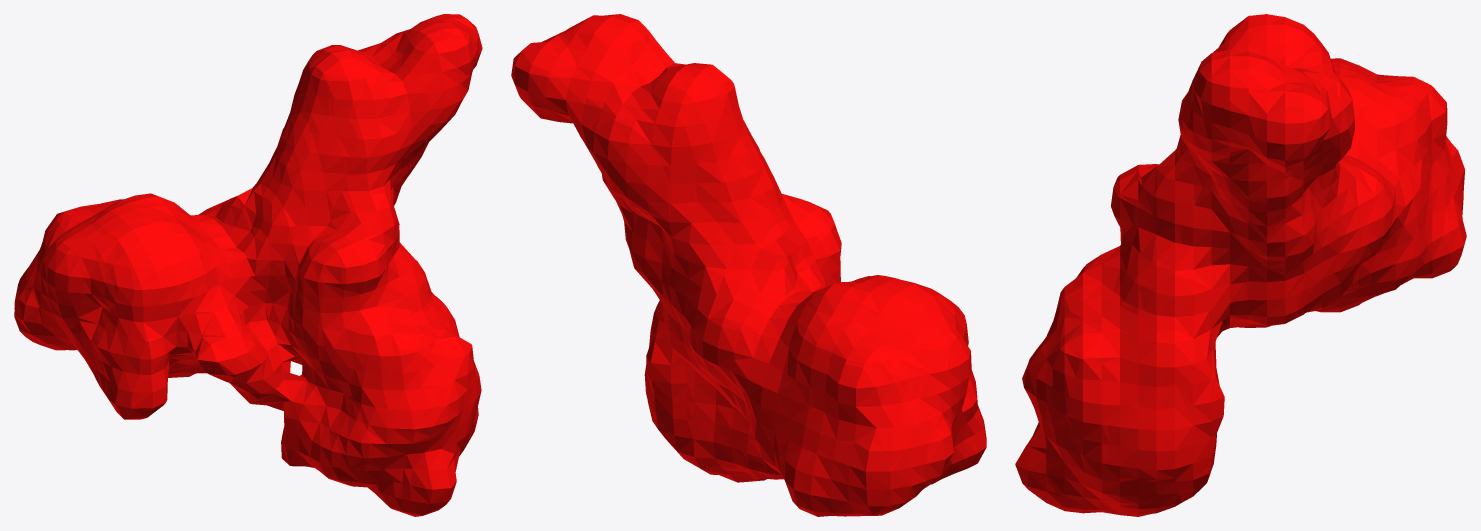
File: mnmE_coarse.dae
3 views of the same model, side by side, from view 1: azimuth 30°, elevation 25°; view 2: azimuth 150°, elevation 25°; view 3: azimuth 270°, elevation 25° (orthographic). The views are drawn at different scales.
Visible parts, largest first — view 1: mnmE; view 2: mnmE; view 3: mnmE.
Part boxes in pixels (box(x1,y1,x2,y2)): mnmE: box(14, 14, 482, 516); mnmE: box(511, 14, 986, 516); mnmE: box(1015, 14, 1466, 516).
Size of the model in its own units: 89.11 by 84.62 by 68.5.
